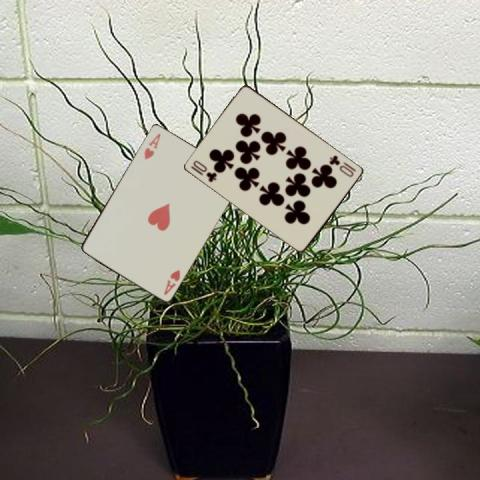10c: (327, 152, 358, 179), (188, 158, 219, 184)
Ah: (141, 130, 162, 161), (161, 267, 181, 296)
